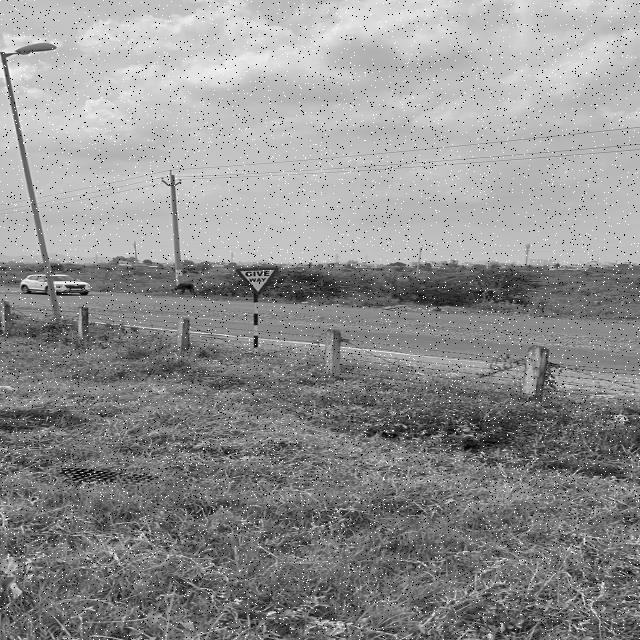giveway: (237, 266, 281, 296)
